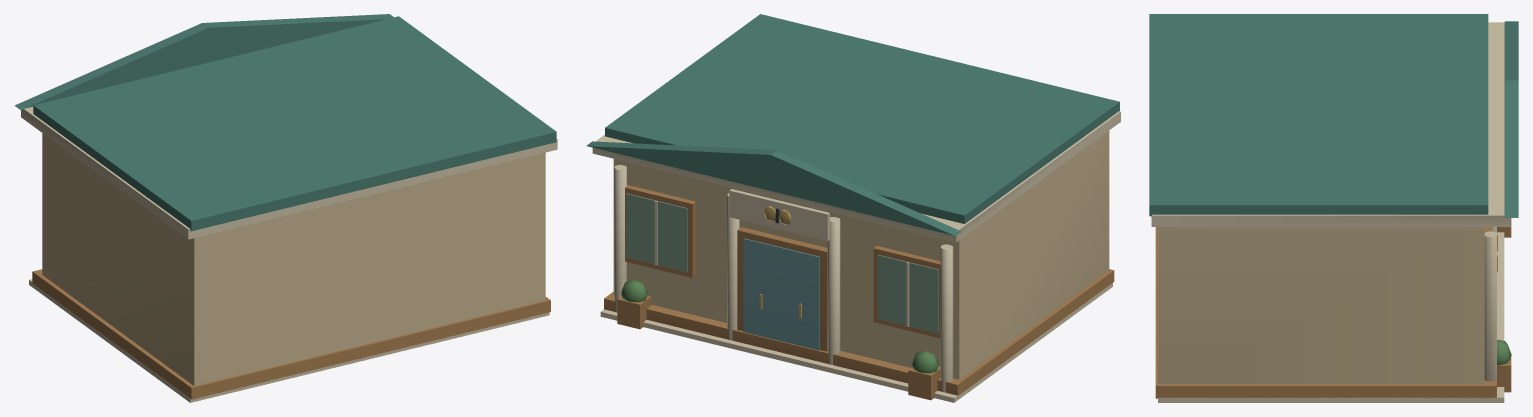
Rendered from museum_exterior_low.glb.
The picture shows the model from 3 angles, left to right: view 1: azimuth 30°, elevation 25°; view 2: azimuth 150°, elevation 25°; view 3: azimuth 270°, elevation 25°; orthographic projection. The views are drawn at different scales.
Bounding box in the file's own units: 9.4 × 5.1 × 7.47.
